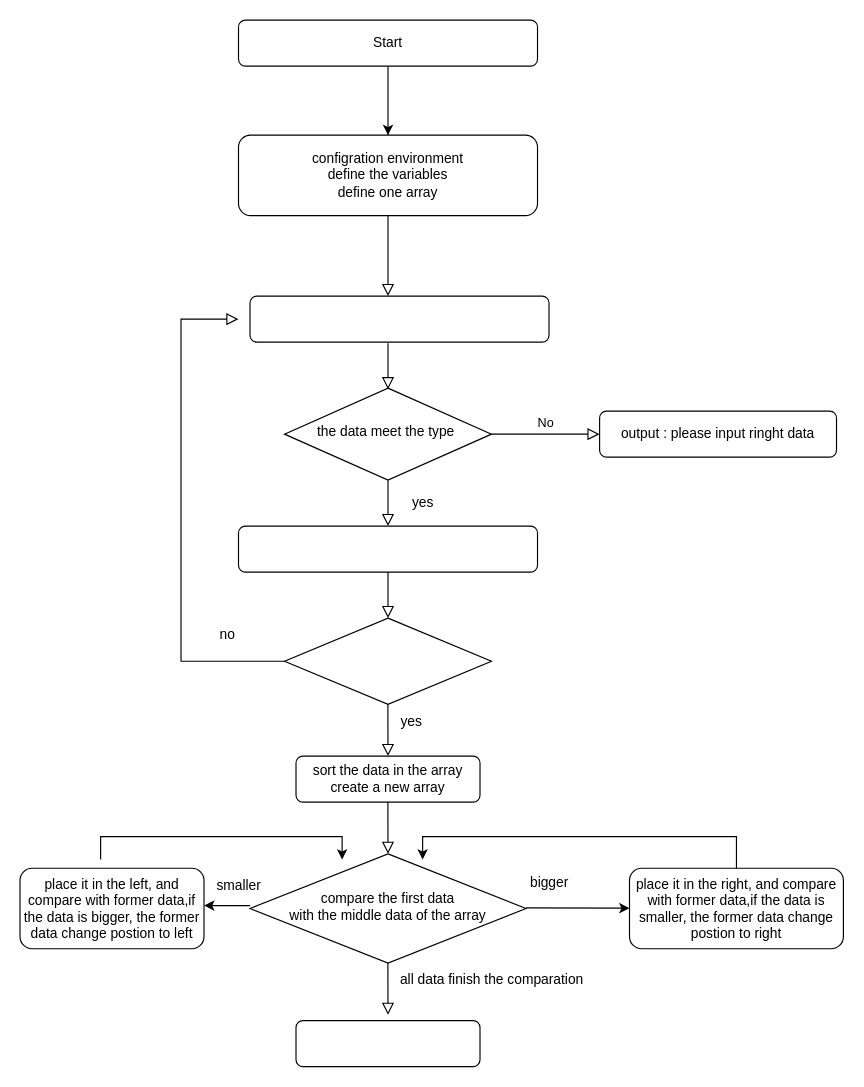
The diagram is 864 pixels wide and 1087 high, and some of its shapes have lost their labels. Each missing label, with the box of its shape:
input the data: (249, 295, 549, 342)
output the array: (295, 1019, 480, 1067)
place the data in the middle of the array: (237, 525, 538, 572)
the array is full: (283, 617, 492, 704)
